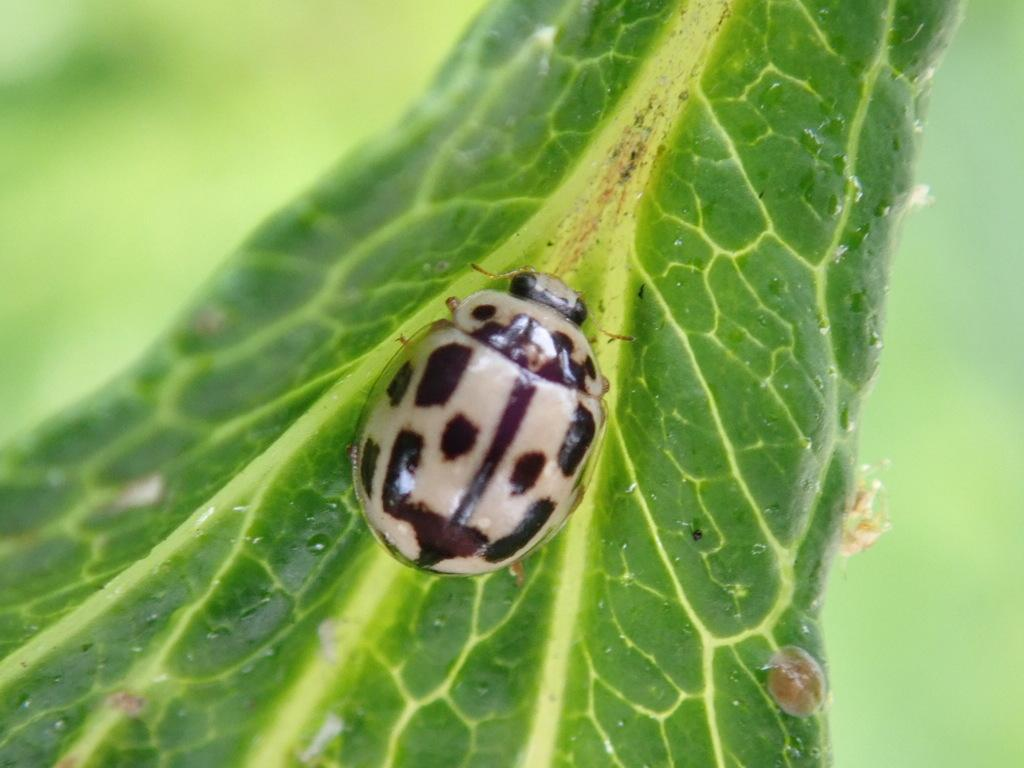ladybug: (349, 259, 641, 581)
